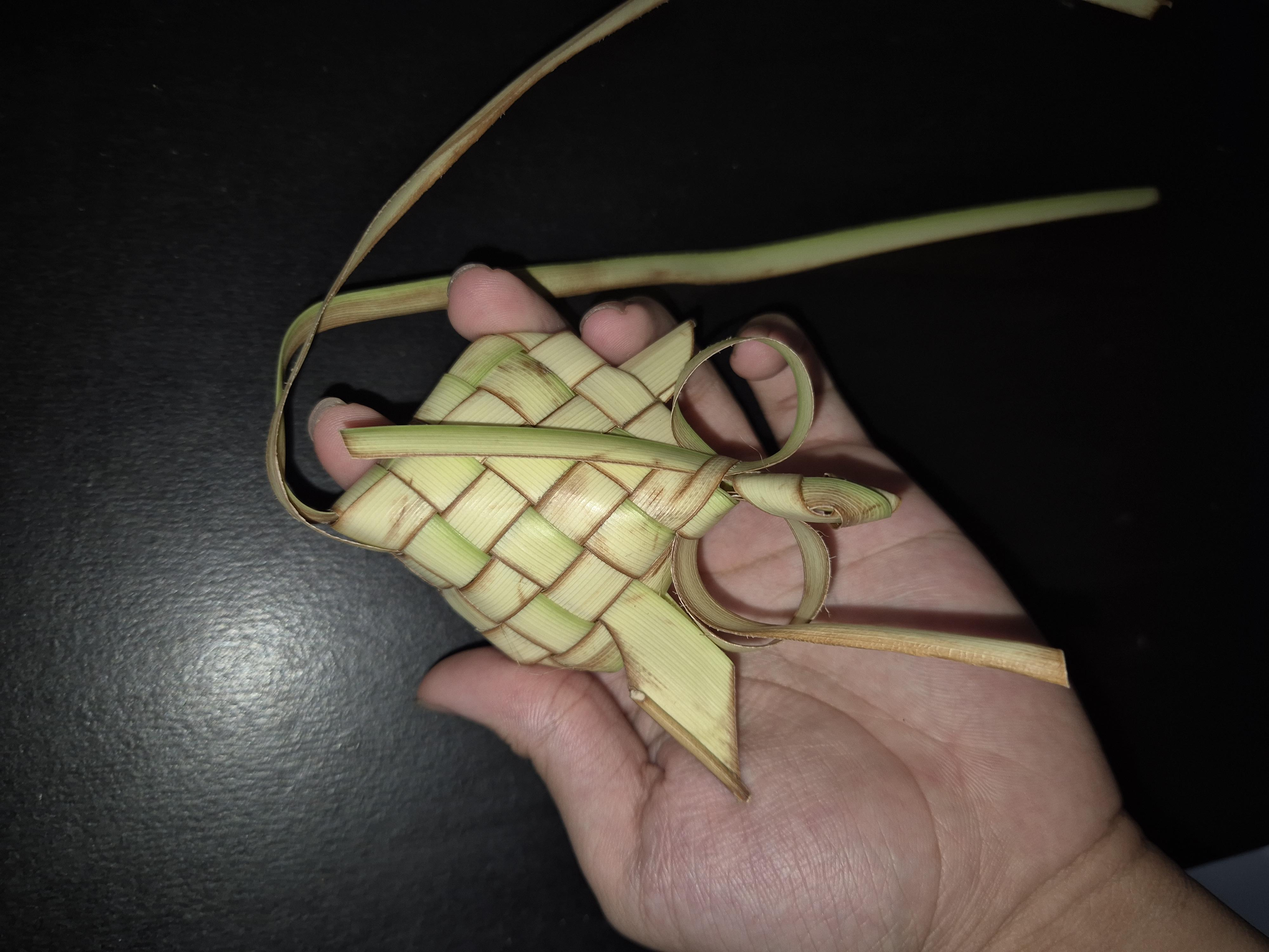Tipat Dampulan: (207, 235, 863, 801)
